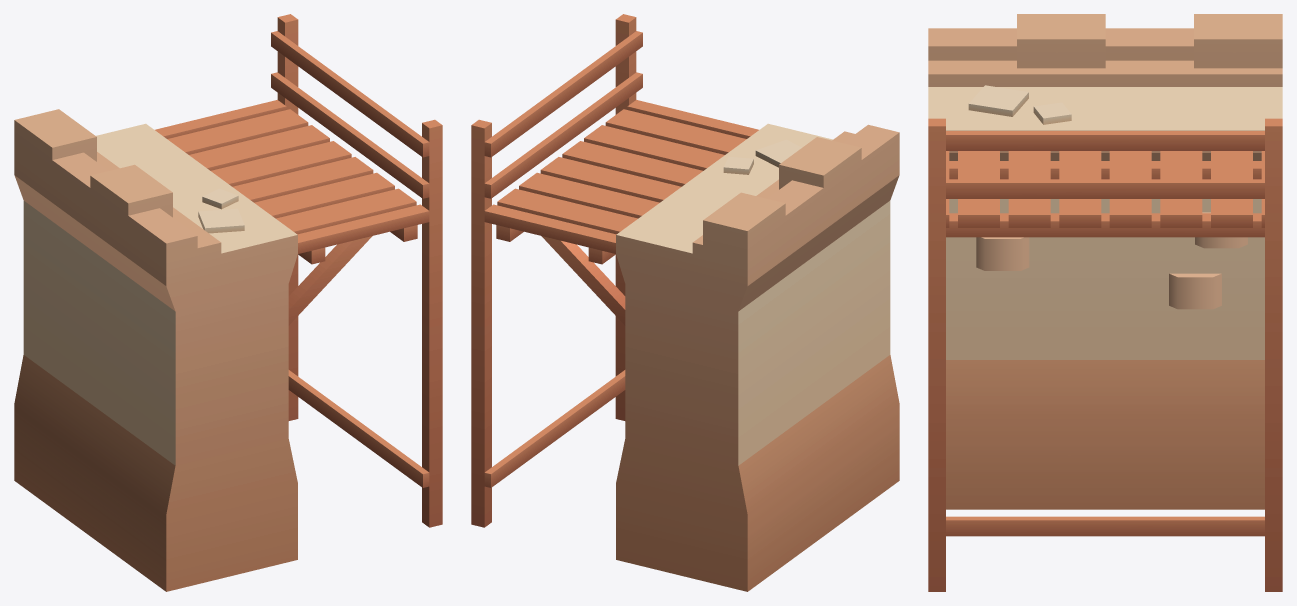
File: wall-narrow-wood-fence.glb
3 renders of one model, left to right at view 1: azimuth 30°, elevation 25°; view 2: azimuth 150°, elevation 25°; view 3: azimuth 270°, elevation 25°, orthographic. The views are drawn at different scales.
Parts seen in each view (by area): view 1: wall-narrow-wood-fence; view 2: wall-narrow-wood-fence; view 3: wall-narrow-wood-fence.
Part boxes in pixels (x1,y1,x2,y2): wall-narrow-wood-fence: (14, 14, 442, 591); wall-narrow-wood-fence: (471, 14, 899, 591); wall-narrow-wood-fence: (928, 14, 1282, 591).
Size of the model in its own units: 1.05 by 1.45 by 1.
Materials: 1 (1 with a texture image).
